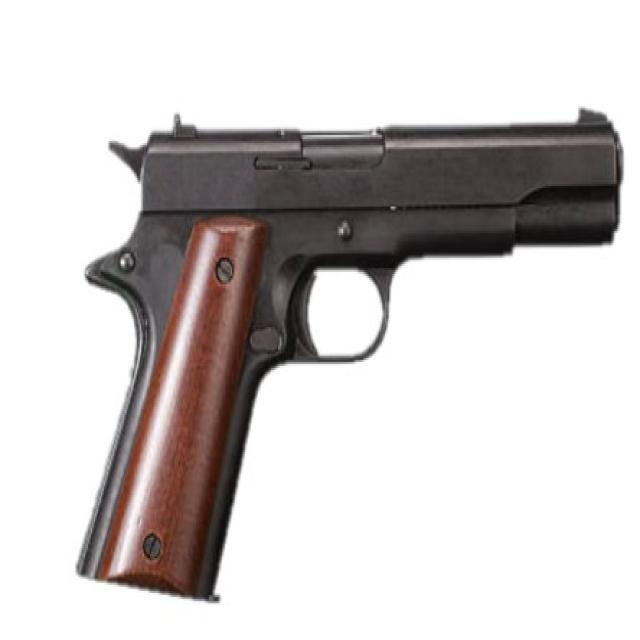pistol: (59, 100, 629, 609)
